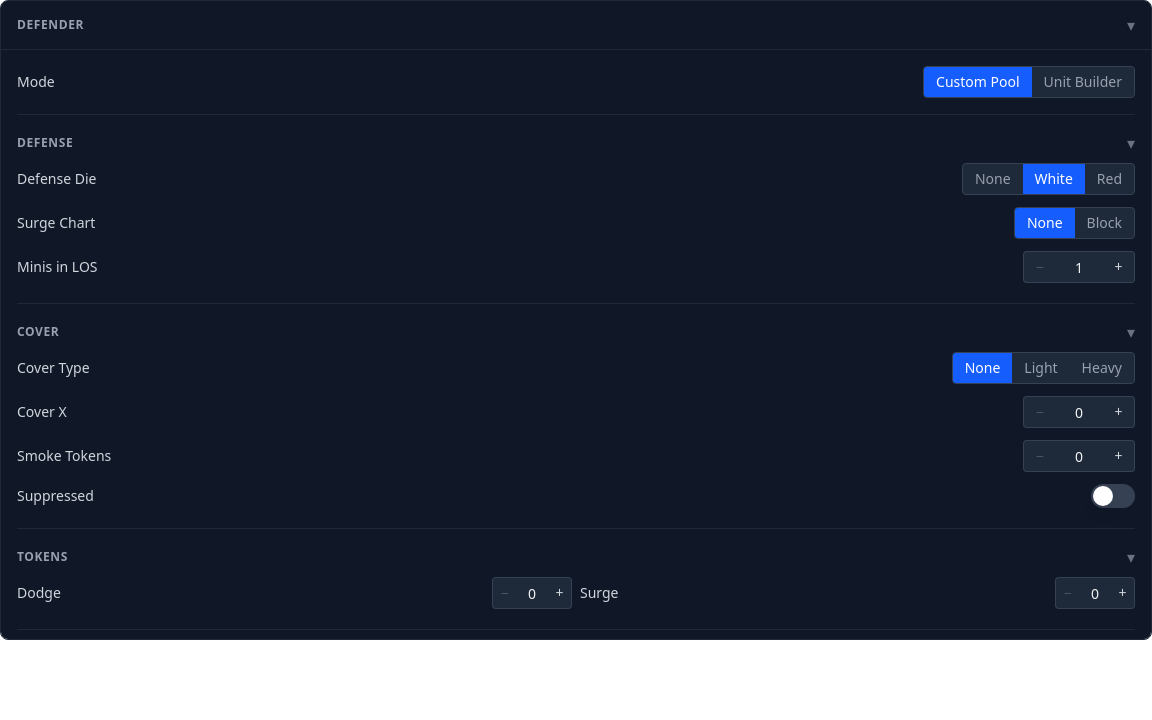
Test: DefenderPanel › hides Surge Chart when Defense Die is set to None
Check: the element named "Surge Chart" is shown, box [1014,207,1135,239]
# Find the Defense Die control and click the 'None' option within it
Click the radio button labelled "None" in the row of "Defense Die".
click(993, 179)  # box [963,164,1023,194]
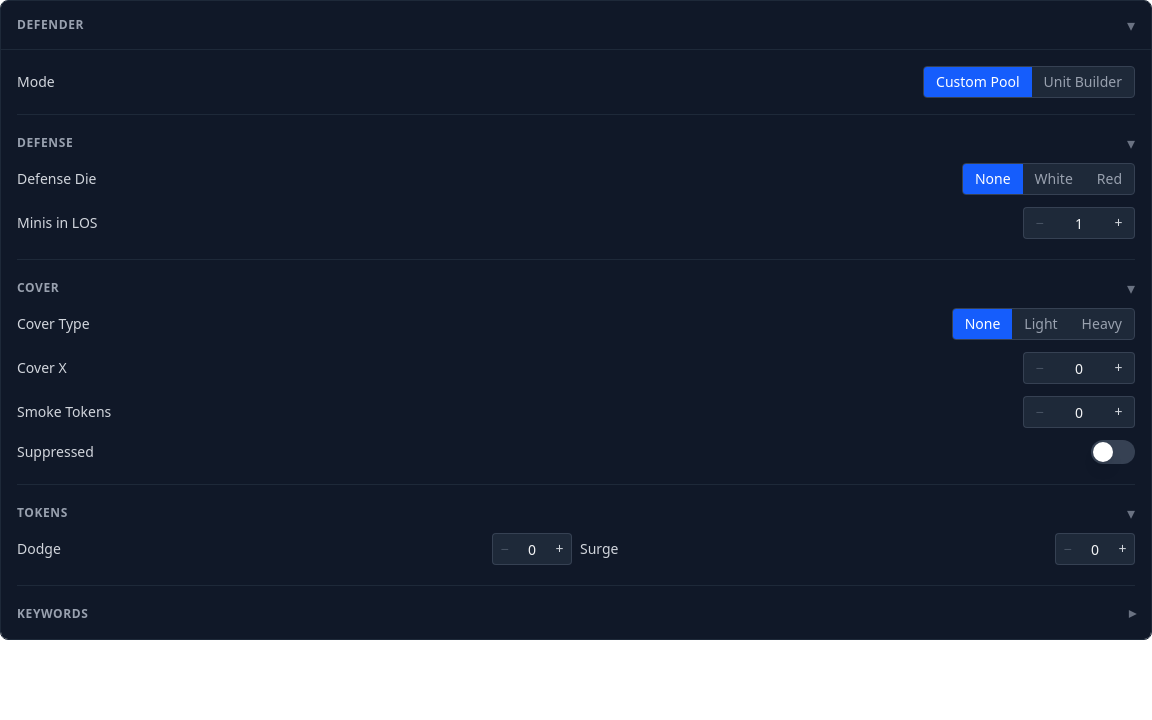
Check: the label labelled "Surge Chart" is gone
